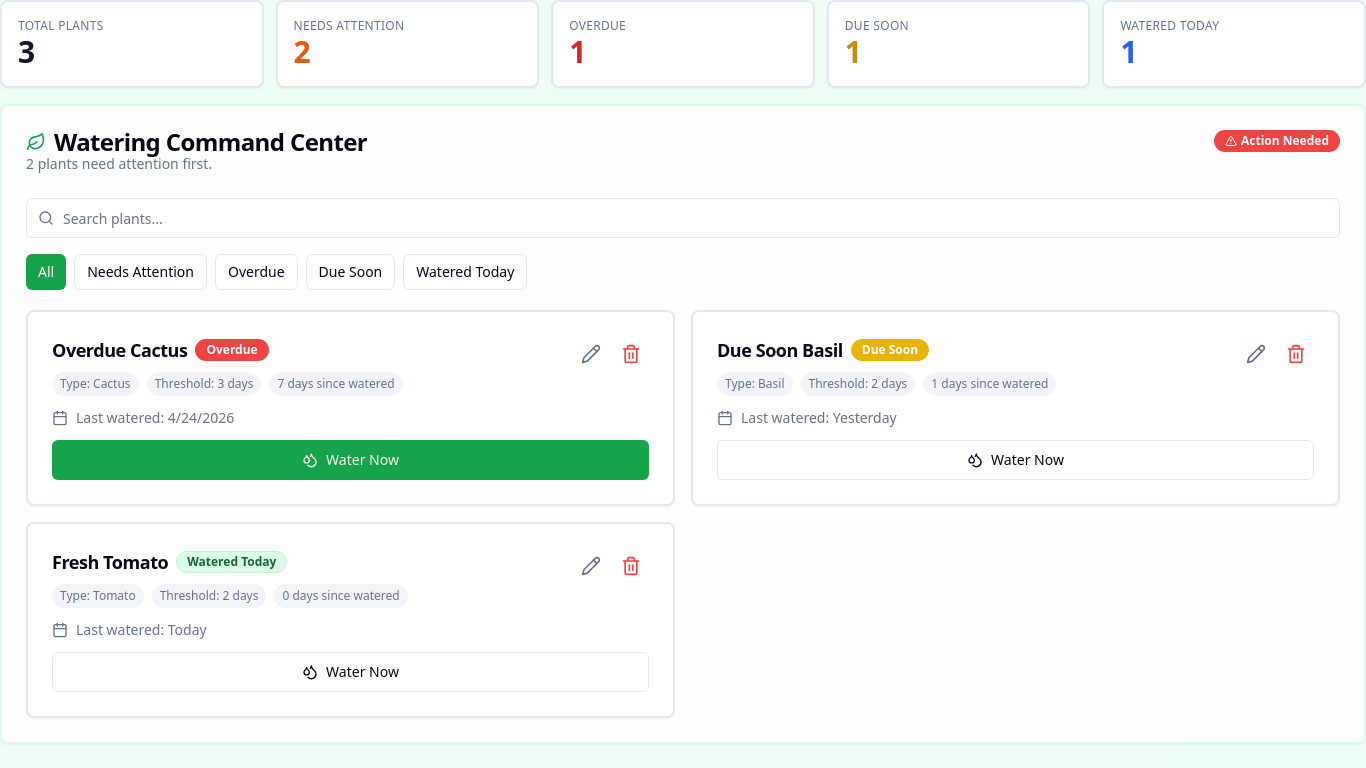
PlantList command center › shows an empty filtered state when no plants match
Expected: the heading "Overdue Cactus" is shown, [52,336,187,364]
Type "monstera" into the field with placeholder "Search plants...". click: (683, 218)
box: [26,198,1340,238]
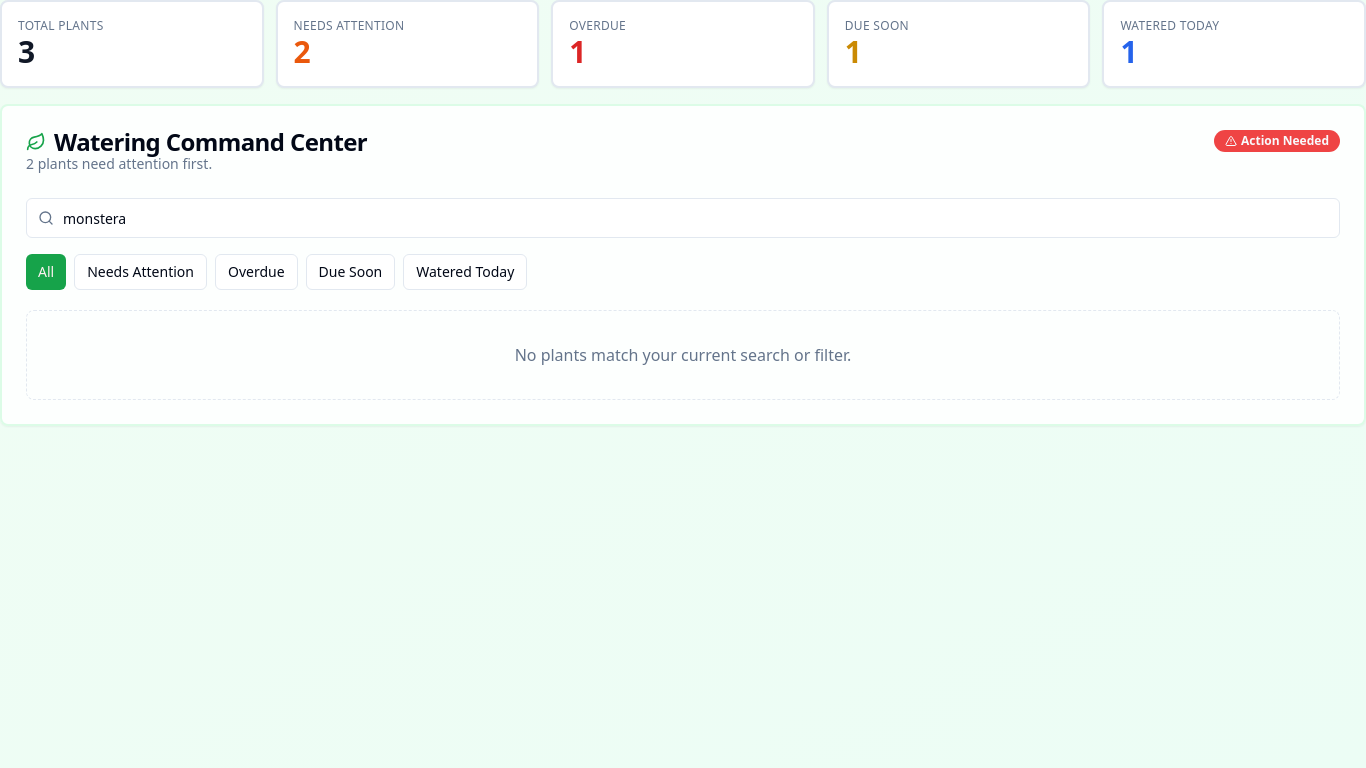
Now the text "No plants match your current search or filter." is shown, box [26,310,1340,400]
